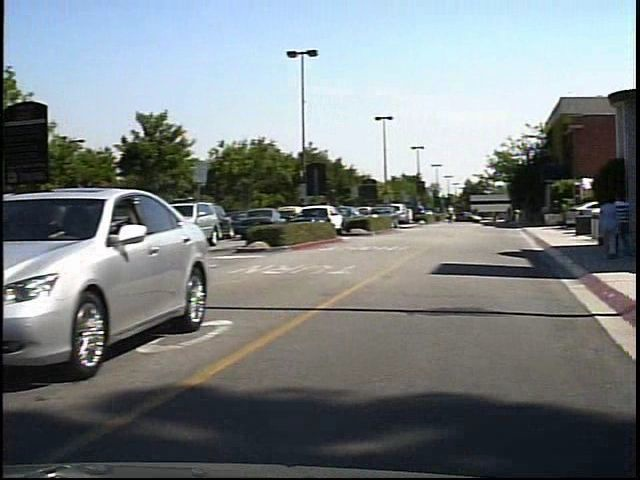person: (455, 206, 467, 226)
